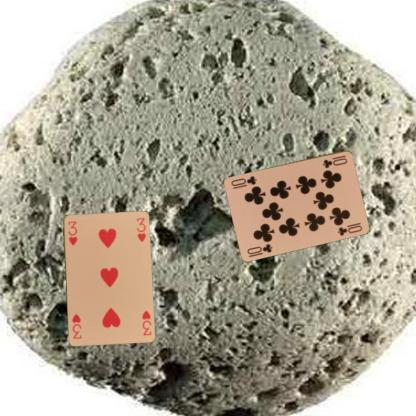10c: (320, 152, 348, 170), (245, 241, 274, 255)
3h: (139, 308, 153, 336), (65, 218, 78, 247)
